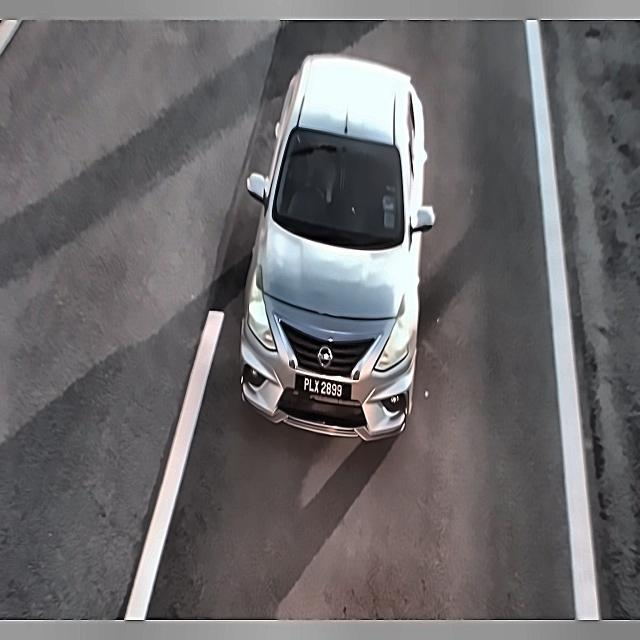car: (290, 365, 356, 410)
